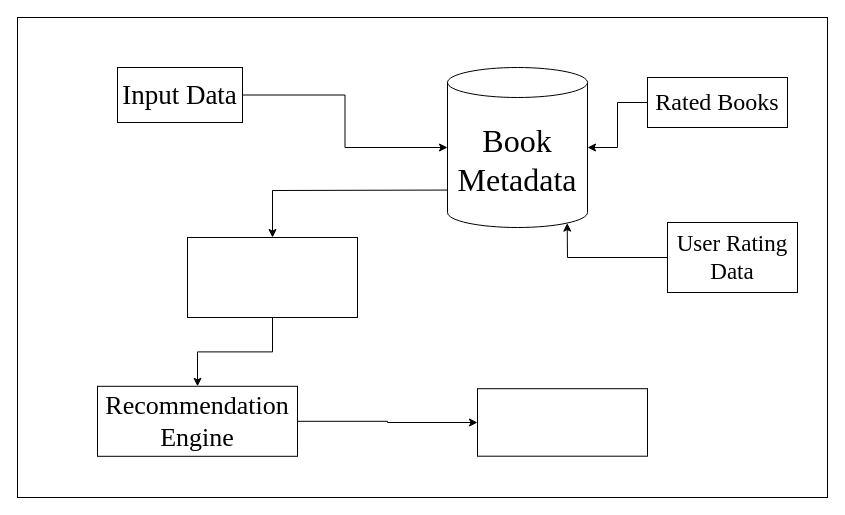
This 845x515 diagram has some shape labels left out. Here are the shapes that lost their labels. From the top down, the centre of each, then its label:
pixel 272 277: Collaborative Filtering Technique
pixel 562 422: Recommended Books
